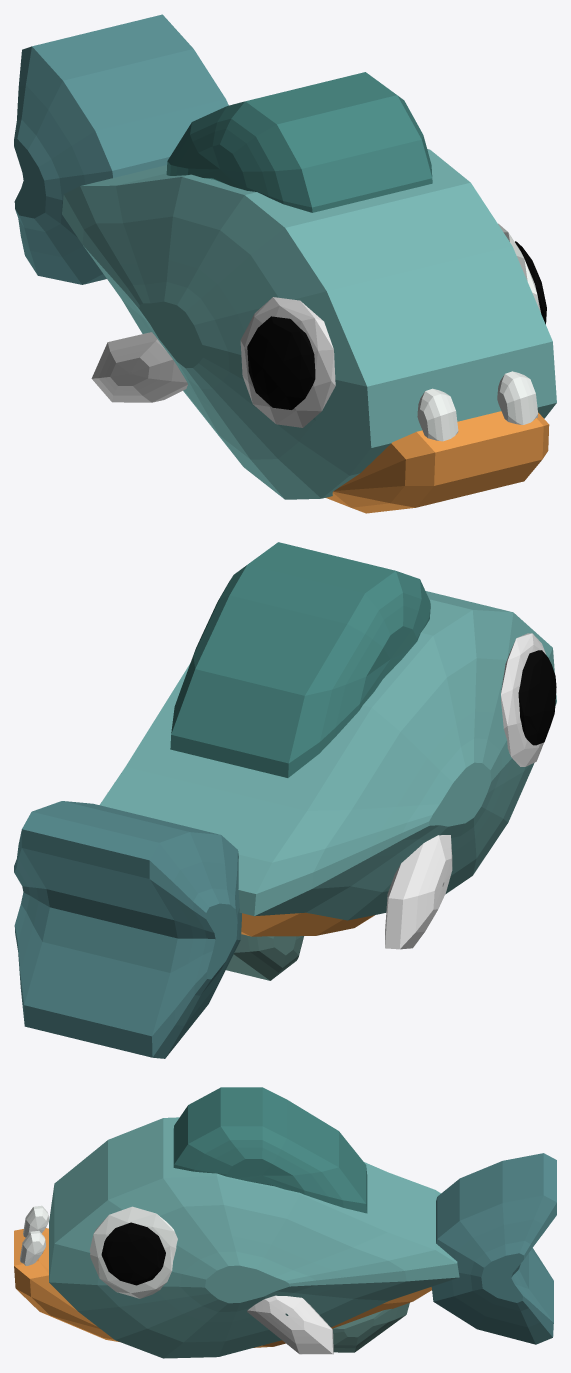
File: piranha.fbx
3 views of the same model, one above another, from view 1: azimuth 30°, elevation 25°; view 2: azimuth 150°, elevation 25°; view 3: azimuth 270°, elevation 25° (orthographic). The views are drawn at different scales.
Visible parts, largest first — view 1: Cube; view 2: Cube; view 3: Cube.
Part boxes in pixels (x1,y1,x2,y2): Cube: (14,14,556,513); Cube: (14,542,556,1058); Cube: (14,1087,556,1358).
Size of the model in its own units: 301 by 314 by 660.
